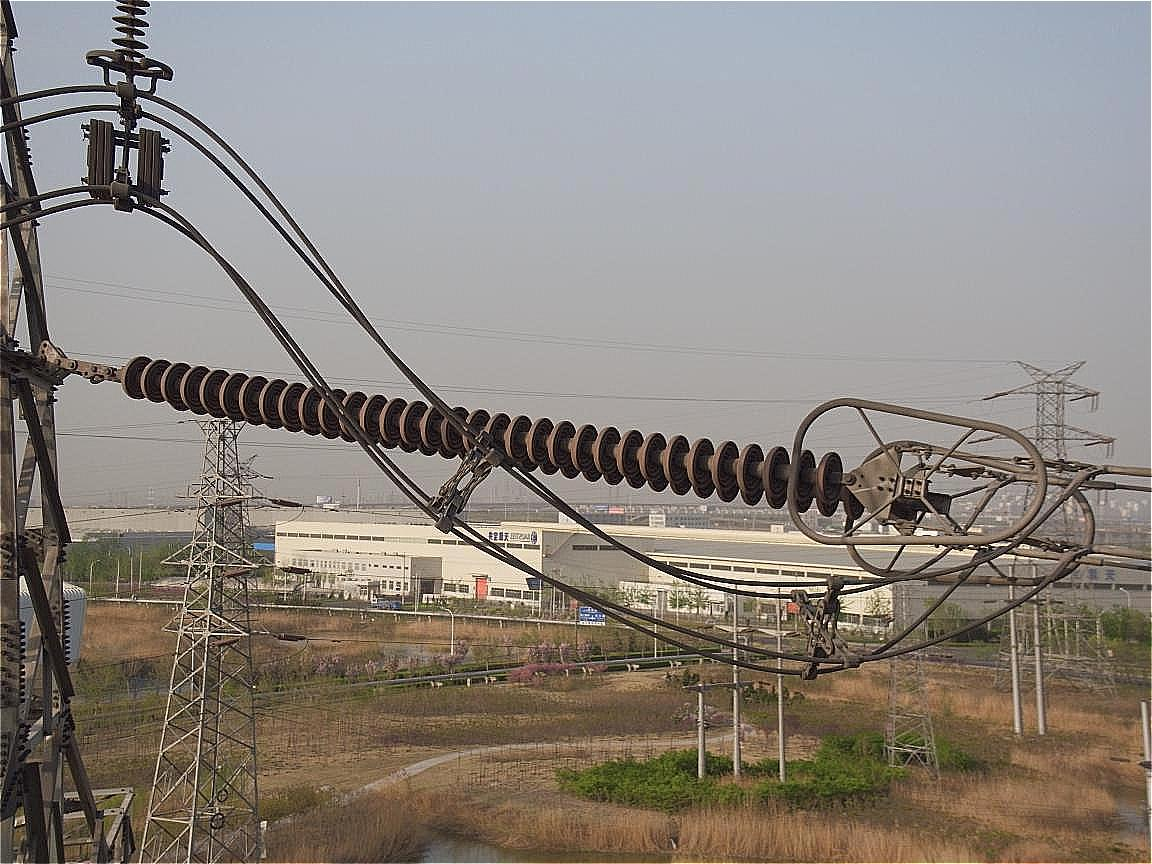insultor1: (118, 345, 848, 520)
